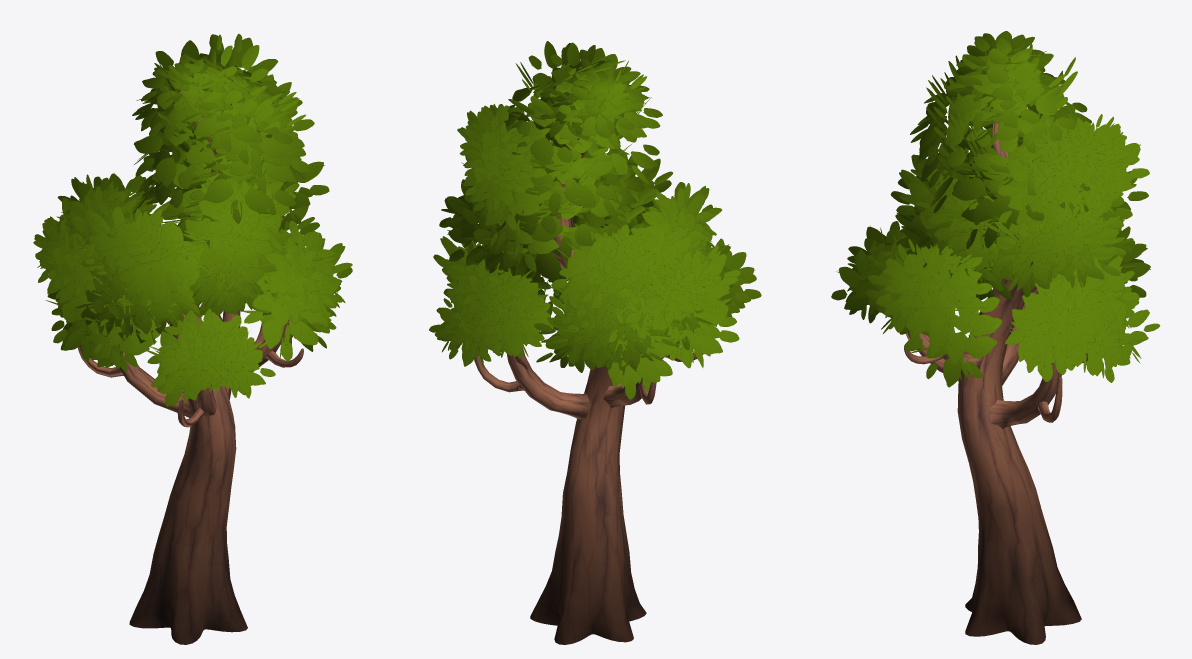
File: CommonTree_2.gltf
3 views of the same model, side by side, from view 1: azimuth 30°, elevation 25°; view 2: azimuth 150°, elevation 25°; view 3: azimuth 270°, elevation 25° (orthographic). The views are drawn at different scales.
Parts seen in each view (by area): view 1: CommonTree_2; view 2: CommonTree_2; view 3: CommonTree_2.
Boxes of the visible parts, x1=… form: CommonTree_2: x1=33, y1=34, x2=352, y2=644; CommonTree_2: x1=429, y1=41, x2=761, y2=644; CommonTree_2: x1=831, y1=31, x2=1159, y2=644.
Bounding box in the file's own units: 4.46 × 7.64 × 4.28.
Materials: 2 (2 with a texture image).
